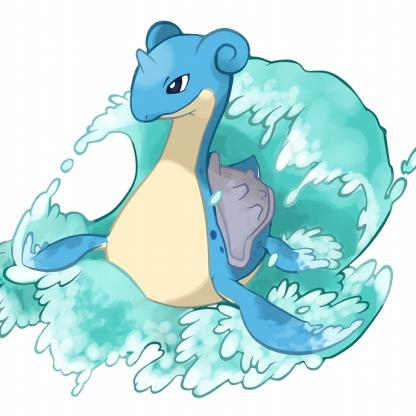Lapras: (22, 26, 371, 334)
